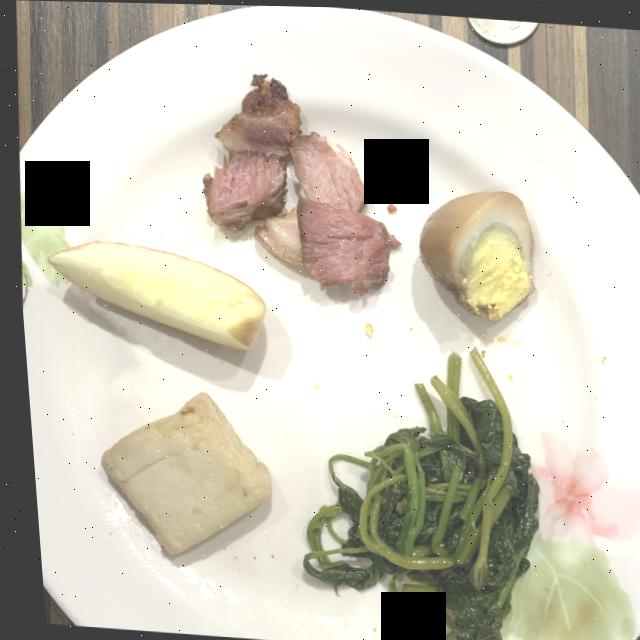apple -sliced-: (45, 241, 260, 349)
coin: (468, 15, 538, 42)
creamy tofu -without sauce-: (94, 391, 263, 554)
grilled pork: (201, 73, 395, 293)
soy egg: (415, 189, 530, 319)
sweet potato leaves: (294, 347, 531, 640)
